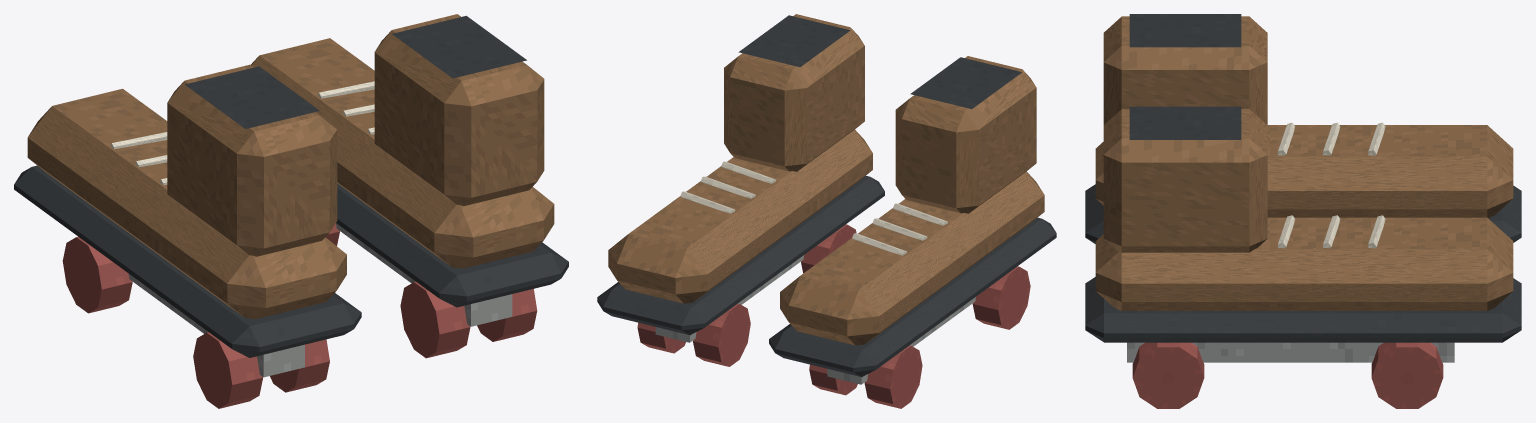
The model's file is rollerskates.glb.
The picture shows the model from 3 angles, left to right: view 1: azimuth 30°, elevation 25°; view 2: azimuth 150°, elevation 25°; view 3: azimuth 270°, elevation 25°; orthographic projection. The views are drawn at different scales.
Visible parts, largest first — view 1: block_stitched vamp (×2), block_open ankle (×2), block_shaped sole (×2), block_urethane wheel (×5), block_insole opening (×2), block_wheel frame (×2); view 2: block_stitched vamp (×2), block_open ankle (×2), block_shaped sole (×2), block_urethane wheel (×6), block_insole opening (×2), block_wheel frame (×2); view 3: block_stitched vamp (×2), block_open ankle (×2), block_shaped sole (×2), block_urethane wheel (×2), block_insole opening (×2), block_wheel frame.
Boxes of the visible parts, x1=… form: block_stitched vamp (×2): x1=27, y1=38, x2=554, y2=319; block_open ankle (×2): x1=167, y1=14, x2=544, y2=256; block_shaped sole (×2): x1=14, y1=165, x2=568, y2=357; block_urethane wheel (×5): x1=62, y1=236, x2=537, y2=408; block_insole opening (×2): x1=185, y1=15, x2=526, y2=128; block_wheel frame (×2): x1=128, y1=223, x2=512, y2=377; block_stitched vamp (×2): x1=608, y1=129, x2=1044, y2=345; block_open ankle (×2): x1=724, y1=14, x2=1036, y2=213; block_shaped sole (×2): x1=597, y1=176, x2=1056, y2=376; block_urethane wheel (×6): x1=637, y1=224, x2=1030, y2=408; block_insole opening (×2): x1=738, y1=15, x2=1021, y2=108; block_wheel frame (×2): x1=655, y1=255, x2=975, y2=384; block_stitched vamp (×2): x1=1095, y1=125, x2=1513, y2=310; block_open ankle (×2): x1=1103, y1=16, x2=1267, y2=252; block_shaped sole (×2): x1=1085, y1=184, x2=1521, y2=342; block_urethane wheel (×2): x1=1132, y1=342, x2=1443, y2=408; block_insole opening (×2): x1=1129, y1=14, x2=1241, y2=139; block_wheel frame: x1=1127, y1=342, x2=1454, y2=362.
Size of the model in its own units: 0.3416 by 0.2791 by 0.4183.
Materials: 1 (1 with a texture image).
